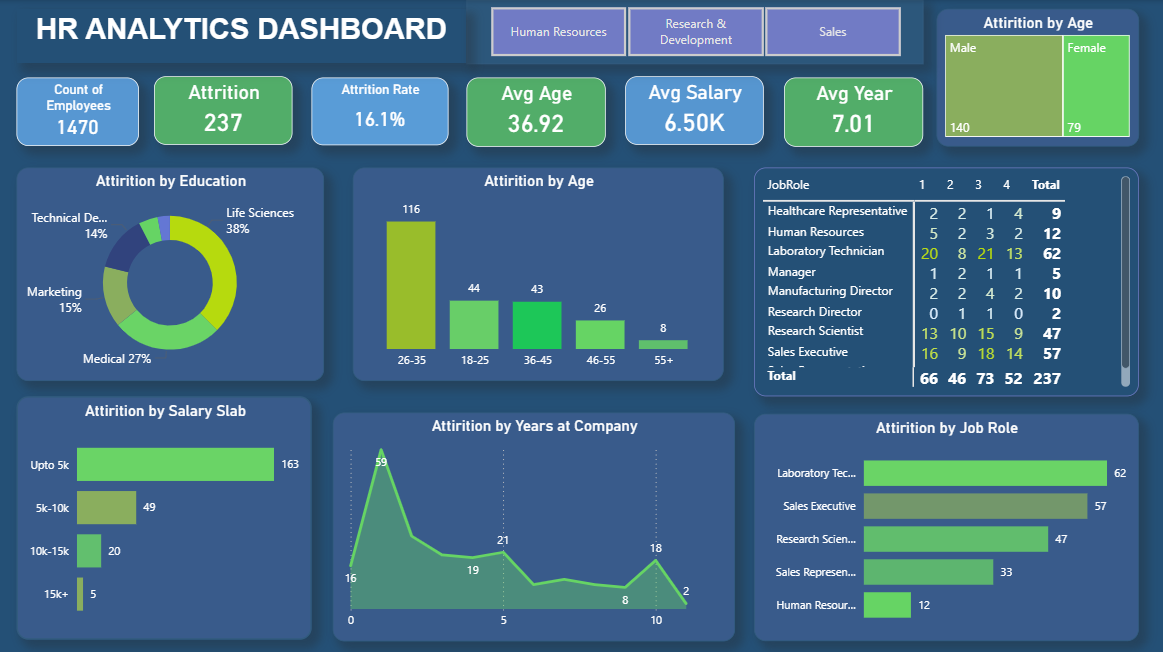

The dashboard page shown, as its layout file describes it:
{"tool":"powerbi","page":{"name":"Hr_Anyaltics","canvas":[1280,720],"ordinal":0},"visuals":[{"type":"card","title":"Count of Employees","fields":{"Values":["CountNonNull(HR_Analytics.EmpID)"]},"box":[19.2,85.1,134.5,75.5],"z":0},{"type":"card","title":"Attrition","fields":{"Values":["Sum(HR_Analytics.AttiritionCount)"]},"box":[170.2,83.7,152.3,75.5],"z":1000},{"type":"card","title":"Attrition Rate","fields":{"Values":["HR_Analytics.AttritioonRate"]},"box":[342.9,85.5,150,74.3],"z":2000},{"type":"card","title":"Avg Age","fields":{"Values":["Avg(HR_Analytics.Age)"]},"box":[512.9,85.5,152.9,75.7],"z":3000},{"type":"card","title":"Avg Salary","fields":{"Values":["Avg(HR_Analytics.MonthlyIncome)"]},"box":[687.5,83.7,152.3,75.5],"z":4000},{"type":"card","title":"Avg Year","fields":{"Values":["Avg(HR_Analytics.YearsAtCompany)"]},"box":[861.4,85.5,152.9,75.7],"z":5000},{"type":"donutChart","title":"Attirition by Education","fields":{"Category":["HR_Analytics.EducationField"],"Y":["Sum(HR_Analytics.AttiritionCount)"]},"box":[19.2,183.9,337.6,234.6],"z":6000},{"type":"columnChart","title":"Attirition by Age","fields":{"Category":["HR_Analytics.AgeGroup"],"Y":["Sum(HR_Analytics.AttiritionCount)"]},"box":[388.3,183.9,407.5,234.6],"z":7000},{"type":"pivotTable","fields":{"Rows":["HR_Analytics.JobRole"],"Columns":["HR_Analytics.JobSatisfaction"],"Values":["Sum(HR_Analytics.AttiritionCount)"]},"box":[828.8,183.9,422.6,251.1],"z":8000},{"type":"barChart","title":"Attirition by Salary Slab","fields":{"Category":["HR_Analytics.SalarySlab"],"Y":["Sum(HR_Analytics.AttiritionCount)"]},"box":[19.2,435,323.8,267.6],"z":9000},{"type":"barChart","title":"Attirition by Job Role","fields":{"Y":["Sum(HR_Analytics.AttiritionCount)"],"Category":["HR_Analytics.JobRole"]},"box":[828.8,454.2,422.6,249.7],"z":10000},{"type":"areaChart","title":"Attirition by Years at Company","fields":{"Y":["Sum(HR_Analytics.AttiritionCount)"],"Category":["HR_Analytics.YearsAtCompany"]},"box":[366.4,452.8,441.9,251.1],"z":11000},{"type":"treemap","title":"Attirition by Age","fields":{"Group":["HR_Analytics.Gender"],"Values":["Sum(HR_Analytics.AttiritionCount)"]},"box":[1029.2,9.6,222.3,150.9],"z":12000},{"type":"slicer","fields":{"Values":["HR_Analytics.Department"]},"box":[512.9,0,501.4,70],"z":13000},{"type":"textbox","box":[19.2,9.6,494,60.4],"z":14000}]}

Visuals, with their boxes in screenshot pixels (x1, y1, x2, y2), scaled from the page's 1280x720 canvas onto the 1163x652 screenshot:
"Count of Employees" card: (left=17, top=77, right=140, bottom=145)
"Attrition" card: (left=155, top=76, right=293, bottom=144)
"Attrition Rate" card: (left=312, top=77, right=448, bottom=145)
"Avg Age" card: (left=466, top=77, right=605, bottom=146)
"Avg Salary" card: (left=625, top=76, right=763, bottom=144)
"Avg Year" card: (left=783, top=77, right=922, bottom=146)
"Attirition by Education" donutChart: (left=17, top=167, right=324, bottom=379)
"Attirition by Age" columnChart: (left=353, top=167, right=723, bottom=379)
pivotTable - HR_Analytics.JobRole x HR_Analytics.JobSatisfaction: (left=753, top=167, right=1137, bottom=394)
"Attirition by Salary Slab" barChart: (left=17, top=394, right=312, bottom=636)
"Attirition by Job Role" barChart: (left=753, top=411, right=1137, bottom=637)
"Attirition by Years at Company" areaChart: (left=333, top=410, right=734, bottom=637)
"Attirition by Age" treemap: (left=935, top=9, right=1137, bottom=145)
slicer - HR_Analytics.Department: (left=466, top=0, right=922, bottom=63)
textbox: (left=17, top=9, right=466, bottom=63)
